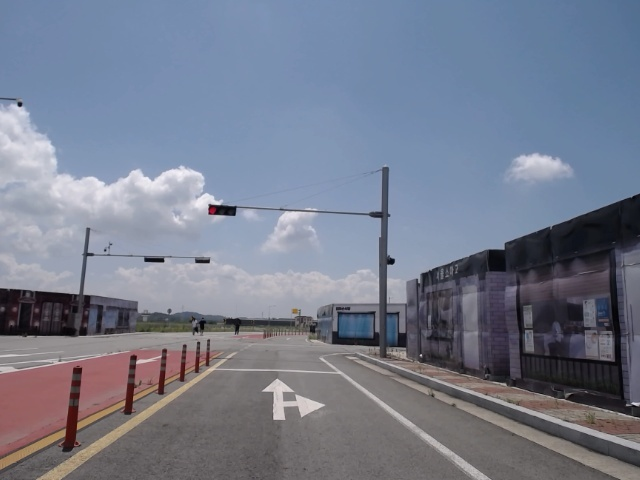red_3: (207, 204, 237, 216)
